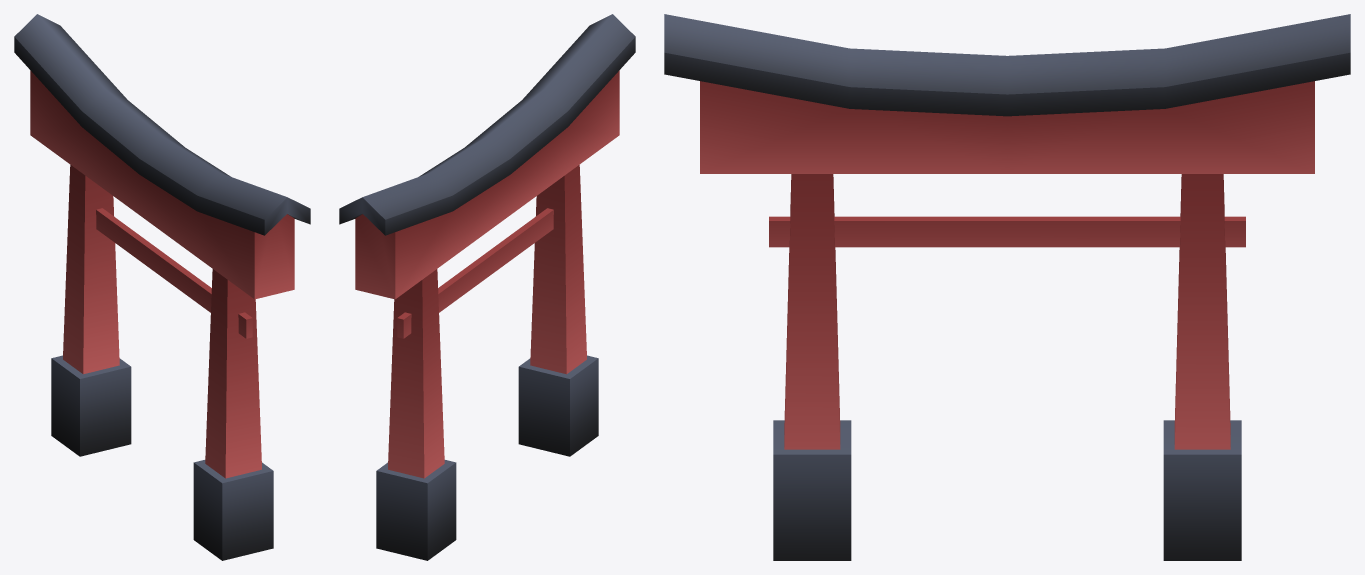
The model's file is m_toriiGate.fbx.
The picture shows the model from 3 angles, left to right: view 1: azimuth 30°, elevation 25°; view 2: azimuth 150°, elevation 25°; view 3: azimuth 270°, elevation 25°; orthographic projection. The views are drawn at different scales.
Parts seen in each view (by area): view 1: toriiGate1; view 2: toriiGate1; view 3: toriiGate1.
Boxes of the visible parts, x1,y1,x2,y2 form: toriiGate1: (14, 14, 310, 560); toriiGate1: (339, 14, 635, 560); toriiGate1: (664, 14, 1350, 560).
Size of the model in its own units: 49.65 by 358 by 420.
